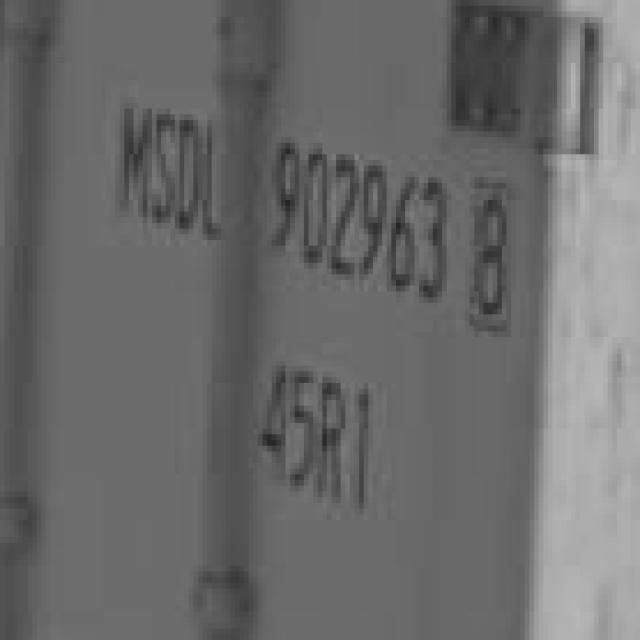dv: (461, 172, 516, 336)
owner: (113, 92, 228, 251)
serial: (267, 131, 452, 315)
size: (252, 356, 386, 522)
